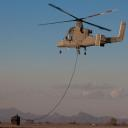helicopter: (39, 4, 127, 57)
